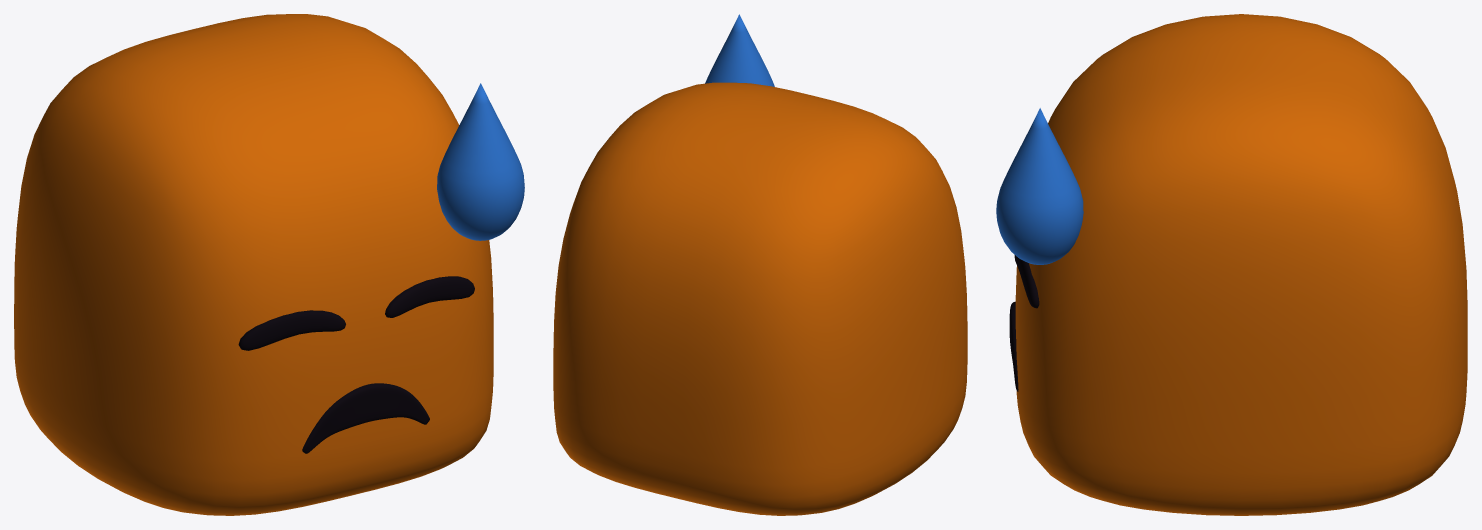
Rendered from Emoji 096 downcast face with sweat.fbx.
3 renders of one model, left to right at view 1: azimuth 30°, elevation 25°; view 2: azimuth 150°, elevation 25°; view 3: azimuth 270°, elevation 25°, orthographic. The views are drawn at different scales.
Parts seen in each view (by area): view 1: Emoji 096 downcast face with sweat, Sphere.008, Eyes.080, Cube.109; view 2: Emoji 096 downcast face with sweat, Sphere.008; view 3: Emoji 096 downcast face with sweat, Sphere.008, Eyes.080.
Part boxes in pixels (x1,y1,x2,y2): Emoji 096 downcast face with sweat: [14, 14, 493, 515]; Sphere.008: [437, 83, 524, 240]; Eyes.080: [238, 276, 474, 350]; Cube.109: [302, 383, 429, 453]; Emoji 096 downcast face with sweat: [553, 82, 967, 515]; Sphere.008: [705, 14, 774, 86]; Emoji 096 downcast face with sweat: [1015, 14, 1467, 515]; Sphere.008: [996, 108, 1083, 264]; Eyes.080: [1014, 255, 1039, 308].
Size of the model in its own units: 95.83 by 104 by 98.08.
